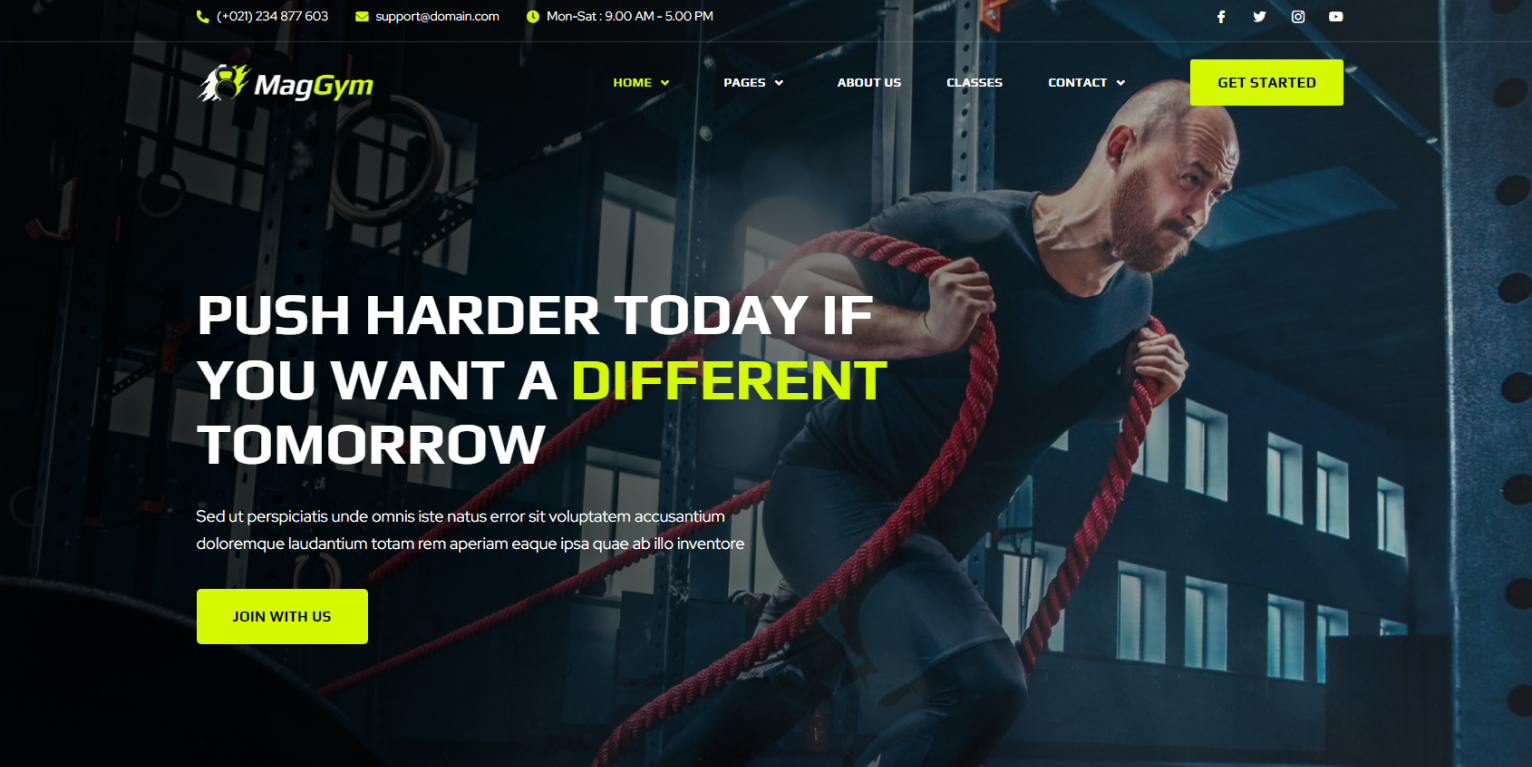menu-bar: (37, 10, 1410, 136)
